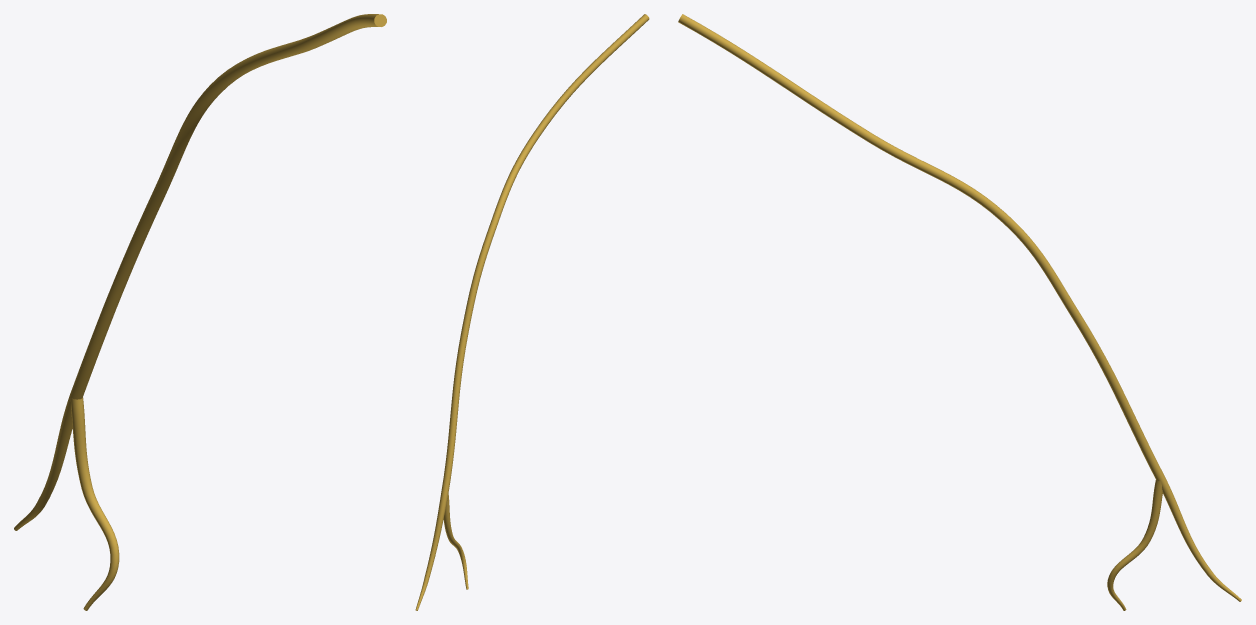
3 renders of one model, left to right at view 1: azimuth 30°, elevation 25°; view 2: azimuth 150°, elevation 25°; view 3: azimuth 270°, elevation 25°, orthographic. The views are drawn at different scales.
Visible parts, largest first — view 1: 左侧颊神经; view 2: 左侧颊神经; view 3: 左侧颊神经.
Part boxes in pixels (box(x1,y1,x2,y2)): 左侧颊神经: box(14, 14, 386, 610); 左侧颊神经: box(415, 14, 649, 610); 左侧颊神经: box(678, 14, 1241, 610).
Bounding box in the file's own units: 0.00628 × 0.0604 × 0.0523.
